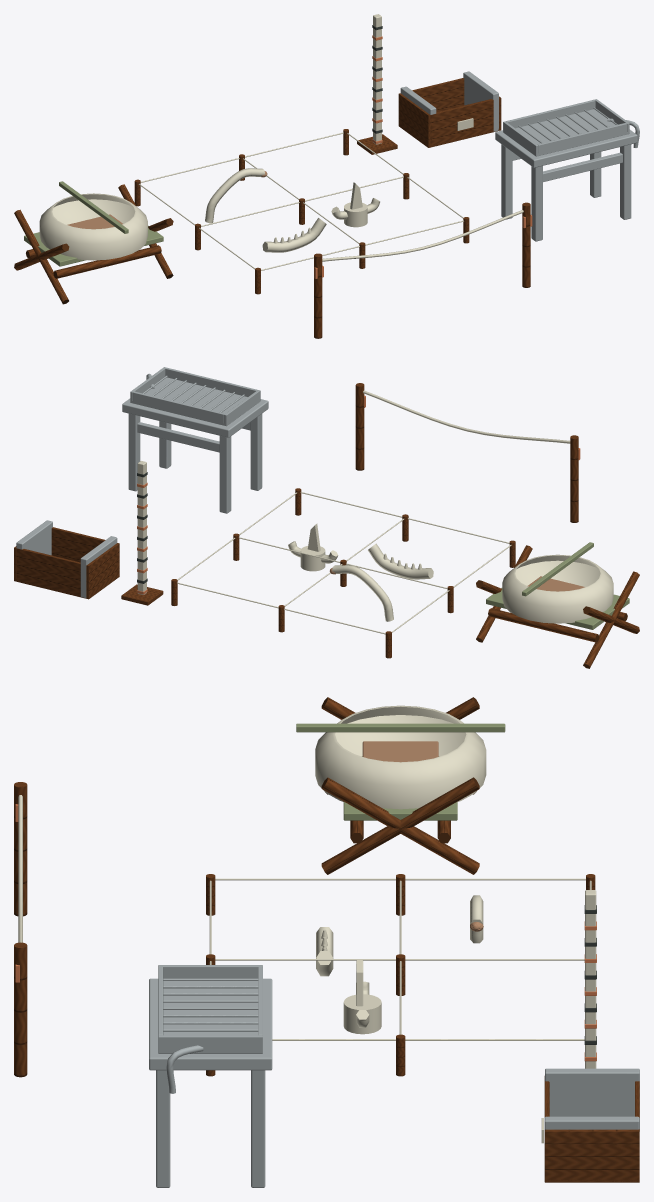
File: prehistoric-expedition-sites-fossil-exca-260fded7-starter-scene__26145.glb
3 views of the same model, one above another, from view 1: azimuth 30°, elevation 25°; view 2: azimuth 150°, elevation 25°; view 3: azimuth 270°, elevation 25° (orthographic). The views are drawn at different scales.
Visible parts, largest first — view 1: 007-sample-washing-screen/0, 006-plaster-jacket/0, 008-sample-crate/0, 005-field-jacketing-cradle/0, 000-excavation-grid/1, 009-excavation-boundary-rope/0, 000-excavation-grid/0, 008-sample-crate/1, 002-vertebra-fragment/0, 004-measuring-datum-post/0, 003-jaw-fragment/0, 001-rib-fragment/0 (+3 smaller); view 2: 007-sample-washing-screen/0, 006-plaster-jacket/0, 008-sample-crate/0, 005-field-jacketing-cradle/0, 000-excavation-grid/1, 009-excavation-boundary-rope/0, 000-excavation-grid/0, 008-sample-crate/1, 004-measuring-datum-post/0, 002-vertebra-fragment/0, 003-jaw-fragment/0, 001-rib-fragment/0 (+4 smaller); view 3: 007-sample-washing-screen/0, 006-plaster-jacket/0, 005-field-jacketing-cradle/0, 008-sample-crate/1, 008-sample-crate/0, 009-excavation-boundary-rope/0, 000-excavation-grid/1, 006-plaster-jacket/2, 000-excavation-grid/0, 002-vertebra-fragment/0, 004-measuring-datum-post/0, 006-plaster-jacket/1 (+3 smaller).
Boxes of the visible parts, <box> form: 007-sample-washing-screen/0: <box>495,99,639,241</box>; 006-plaster-jacket/0: <box>39,193,147,260</box>; 008-sample-crate/0: <box>398,78,501,147</box>; 005-field-jacketing-cradle/0: <box>14,184,173,304</box>; 000-excavation-grid/1: <box>138,132,463,270</box>; 009-excavation-boundary-rope/0: <box>314,202,530,338</box>; 000-excavation-grid/0: <box>134,129,469,294</box>; 008-sample-crate/1: <box>400,71,498,131</box>; 002-vertebra-fragment/0: <box>331,182,379,227</box>; 004-measuring-datum-post/0: <box>373,14,381,144</box>; 003-jaw-fragment/0: <box>262,218,326,252</box>; 001-rib-fragment/0: <box>205,168,264,223</box>; 007-sample-washing-screen/0: <box>122,367,268,513</box>; 006-plaster-jacket/0: <box>502,554,613,623</box>; 008-sample-crate/0: <box>14,527,119,599</box>; 005-field-jacketing-cradle/0: <box>476,545,639,668</box>; 000-excavation-grid/1: <box>177,492,511,634</box>; 009-excavation-boundary-rope/0: <box>355,383,578,522</box>; 000-excavation-grid/0: <box>171,488,515,658</box>; 008-sample-crate/1: <box>16,520,117,598</box>; 004-measuring-datum-post/0: <box>137,461,146,594</box>; 002-vertebra-fragment/0: <box>288,523,338,571</box>; 003-jaw-fragment/0: <box>368,543,433,579</box>; 001-rib-fragment/0: <box>332,565,393,621</box>; 007-sample-washing-screen/0: <box>149,965,272,1187</box>; 006-plaster-jacket/0: <box>315,705,486,809</box>; 005-field-jacketing-cradle/0: <box>321,697,479,874</box>; 008-sample-crate/1: <box>544,1068,639,1131</box>; 008-sample-crate/0: <box>544,1076,639,1182</box>; 009-excavation-boundary-rope/0: <box>14,782,27,1077</box>; 000-excavation-grid/1: <box>209,878,591,1040</box>; 006-plaster-jacket/2: <box>296,723,505,732</box>; 000-excavation-grid/0: <box>206,874,595,1076</box>; 002-vertebra-fragment/0: <box>343,960,381,1034</box>; 004-measuring-datum-post/0: <box>585,890,596,1068</box>; 006-plaster-jacket/1: <box>362,741,438,762</box>.
Bounding box in the file's own units: 5.08 × 1.2 × 3.29.
7 materials, 1 textured.
